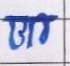i_matra: (38, 13, 47, 41)
